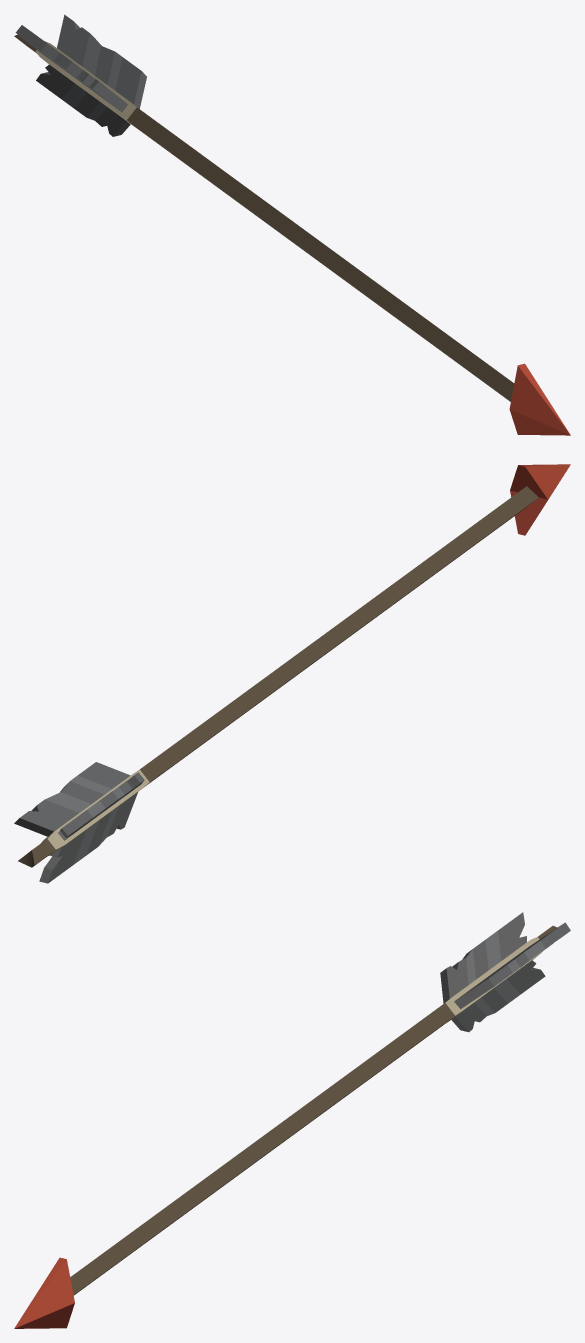
File: synty-prop-arrow-01.gltf
The picture shows the model from 3 angles, top to bottom: view 1: azimuth 30°, elevation 25°; view 2: azimuth 150°, elevation 25°; view 3: azimuth 330°, elevation 25°; orthographic projection.
Visible parts, largest first — view 1: SM_Prop_Arrow_01; view 2: SM_Prop_Arrow_01; view 3: SM_Prop_Arrow_01.
Boxes of the visible parts, box(x1,y1,x2,y2) form: SM_Prop_Arrow_01: box(14, 14, 570, 435); SM_Prop_Arrow_01: box(14, 464, 570, 883); SM_Prop_Arrow_01: box(14, 912, 570, 1328).
Size of the model in its own units: 0.0534 by 0.0652 by 0.9322.
Materials: 1 (1 with a texture image).
